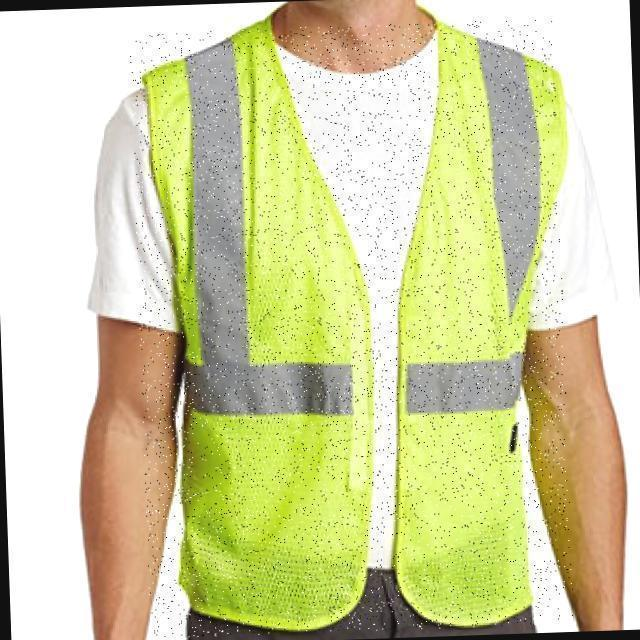safety_helmet: (130, 18, 575, 639)
